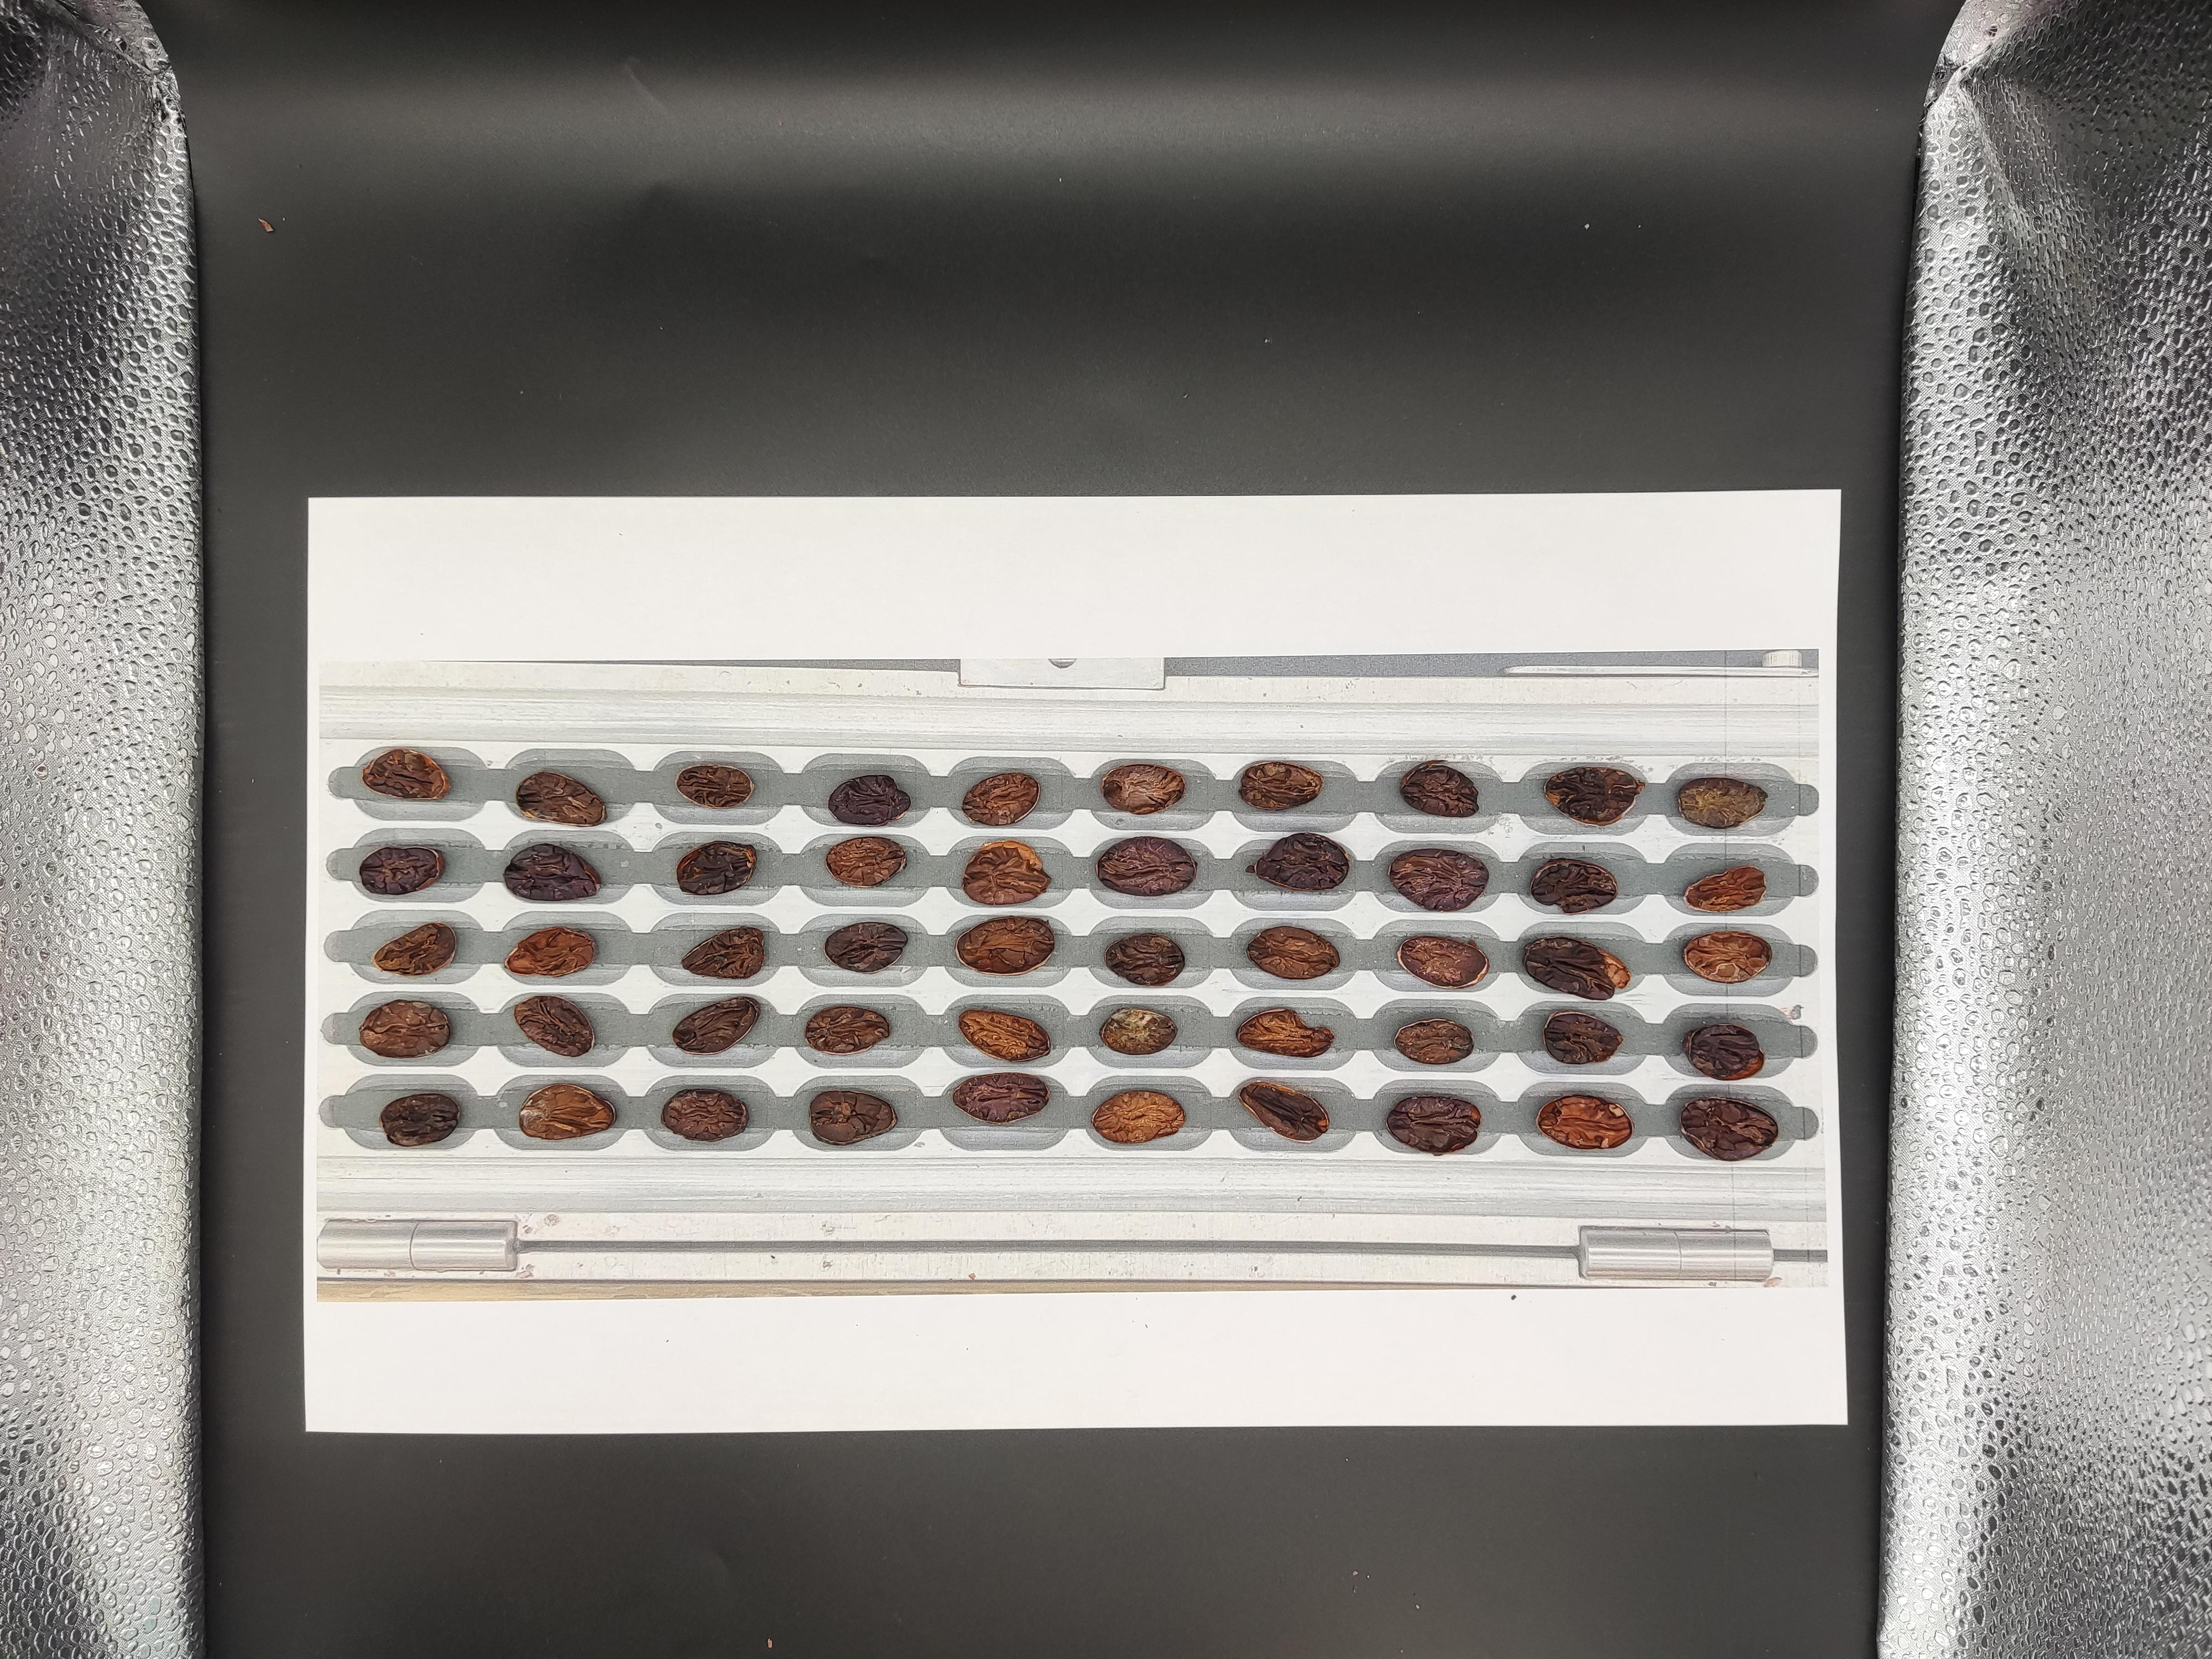Brown - G1: (1569, 429, 1622, 467), (1865, 559, 1921, 592), (1710, 387, 1761, 418), (1489, 514, 1538, 544), (1939, 443, 1987, 471)
Brown - G2: (1568, 514, 1622, 549), (1710, 514, 1766, 545), (1334, 472, 1390, 504), (1939, 474, 1991, 507), (1569, 394, 1616, 429), (1426, 472, 1475, 505), (1263, 382, 1313, 413)
Brown - G3: (1566, 469, 1623, 502), (1714, 472, 1770, 505), (1261, 511, 1313, 545), (1341, 394, 1395, 427), (1414, 556, 1467, 589), (1341, 507, 1388, 544), (1635, 556, 1689, 587), (1639, 389, 1691, 420), (1500, 425, 1547, 458), (1270, 471, 1317, 504)
Brown - G4: (1791, 521, 1838, 547)
Insect-damaged: (1935, 397, 1987, 427)
Mouldy: (1345, 552, 1397, 587), (1639, 514, 1688, 544)
Partly Purple - G1: (1860, 437, 1911, 471), (1867, 516, 1914, 547)
Partly Purple - G2: (1789, 432, 1844, 471), (1787, 559, 1843, 594)
Partly Purple - G3: (1566, 547, 1620, 577)
Partly Purple - G4: (1792, 476, 1844, 511)
Total Purple - G2: (1332, 430, 1392, 467)
Total Purple - G3: (1635, 429, 1696, 464), (1719, 423, 1773, 462), (1261, 430, 1312, 462), (1501, 396, 1548, 427)
Very Dark Brown - G1: (1857, 477, 1918, 516), (1869, 392, 1923, 427), (1940, 521, 1987, 558), (1423, 389, 1470, 418)
Very Dark Brown - G2: (1939, 559, 1993, 598), (1712, 549, 1764, 587), (1421, 427, 1472, 464), (1794, 387, 1841, 423), (1273, 558, 1318, 592), (1642, 476, 1689, 509)
Very Dark Brown - G3: (1421, 509, 1474, 544), (1491, 558, 1541, 591), (1500, 471, 1547, 502)
